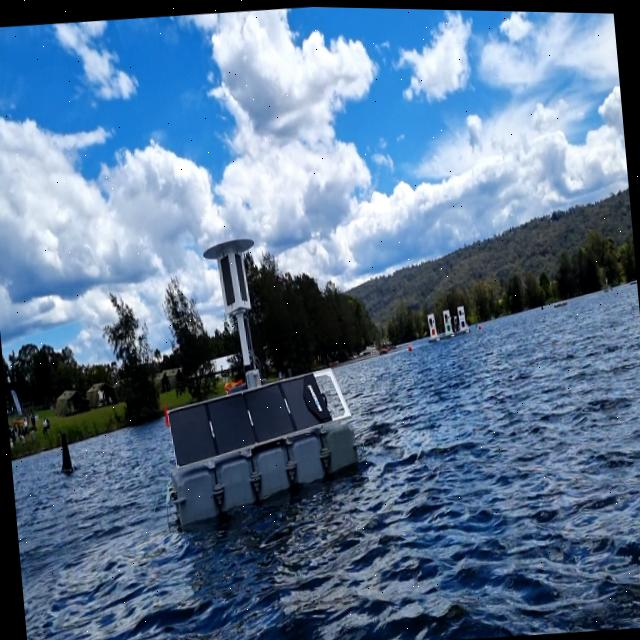led: (220, 254, 236, 305), (234, 250, 246, 300)
